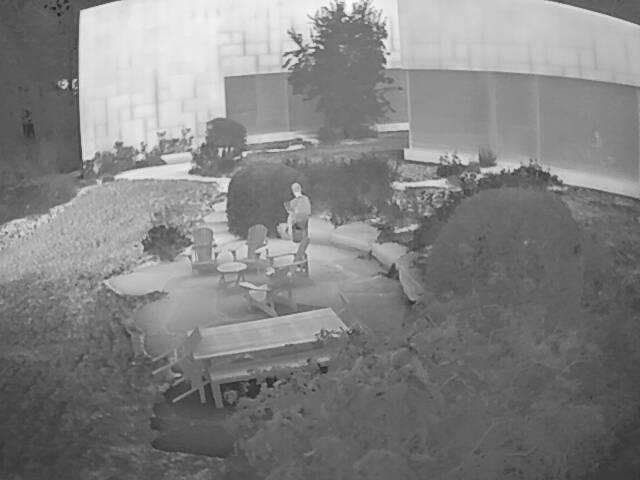person: (286, 180, 312, 272)
